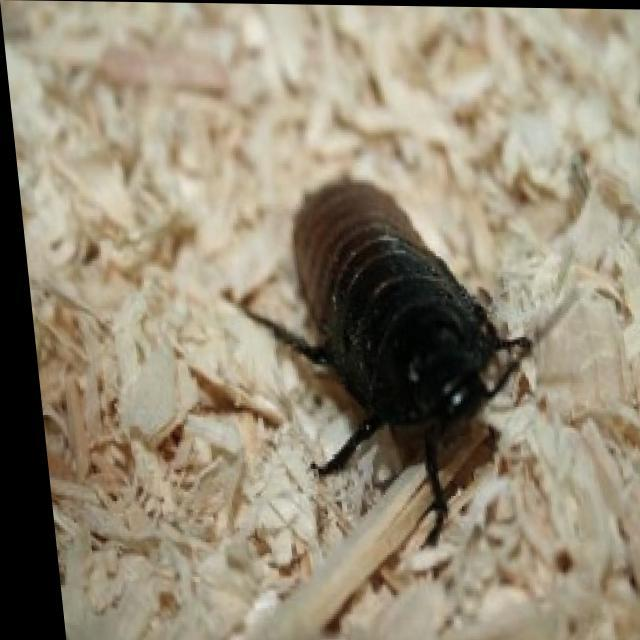cockroach: (220, 171, 537, 549)
